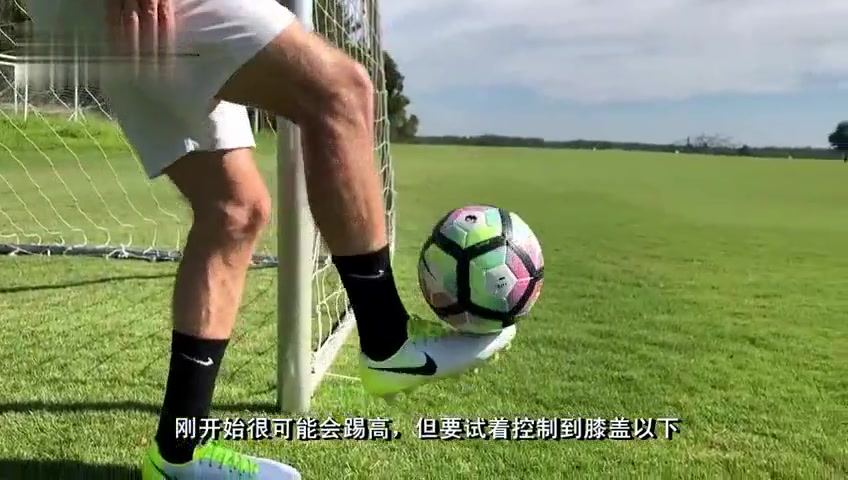football: (418, 205, 548, 334)
